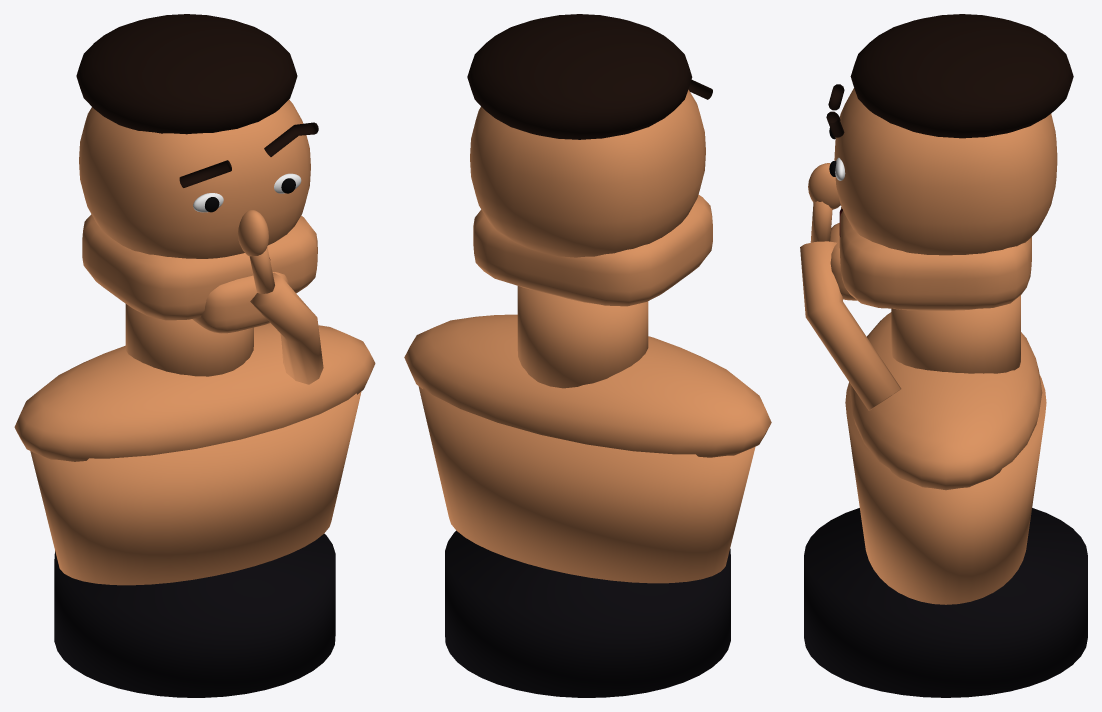
File: MewingHush.fbx
The picture shows the model from 3 angles, left to right: view 1: azimuth 30°, elevation 25°; view 2: azimuth 150°, elevation 25°; view 3: azimuth 270°, elevation 25°; orthographic projection.
Visible parts, largest first — view 1: MewingHush; view 2: MewingHush; view 3: MewingHush.
Boxes of the visible parts, bbox=[...] form: MewingHush: bbox=[14, 14, 375, 697]; MewingHush: bbox=[404, 14, 771, 697]; MewingHush: bbox=[800, 14, 1087, 697].
Size of the model in its own units: 2 by 3.28 by 1.42.
1 material, 1 textured.
